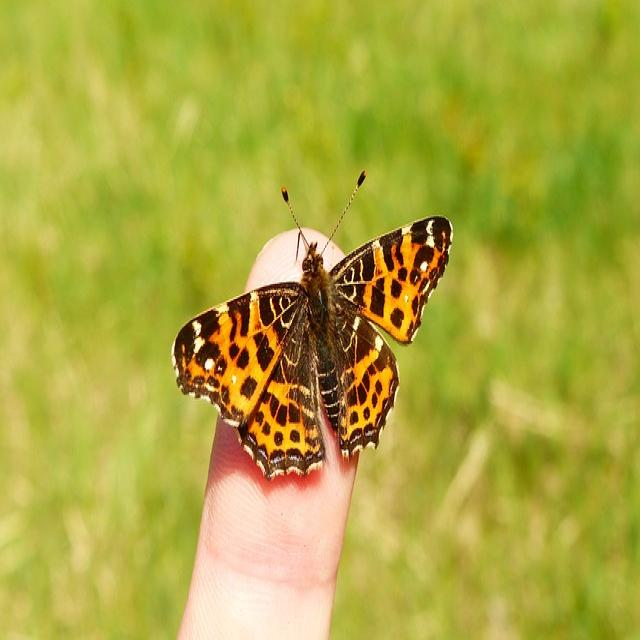butterfly: (171, 216, 453, 482)
